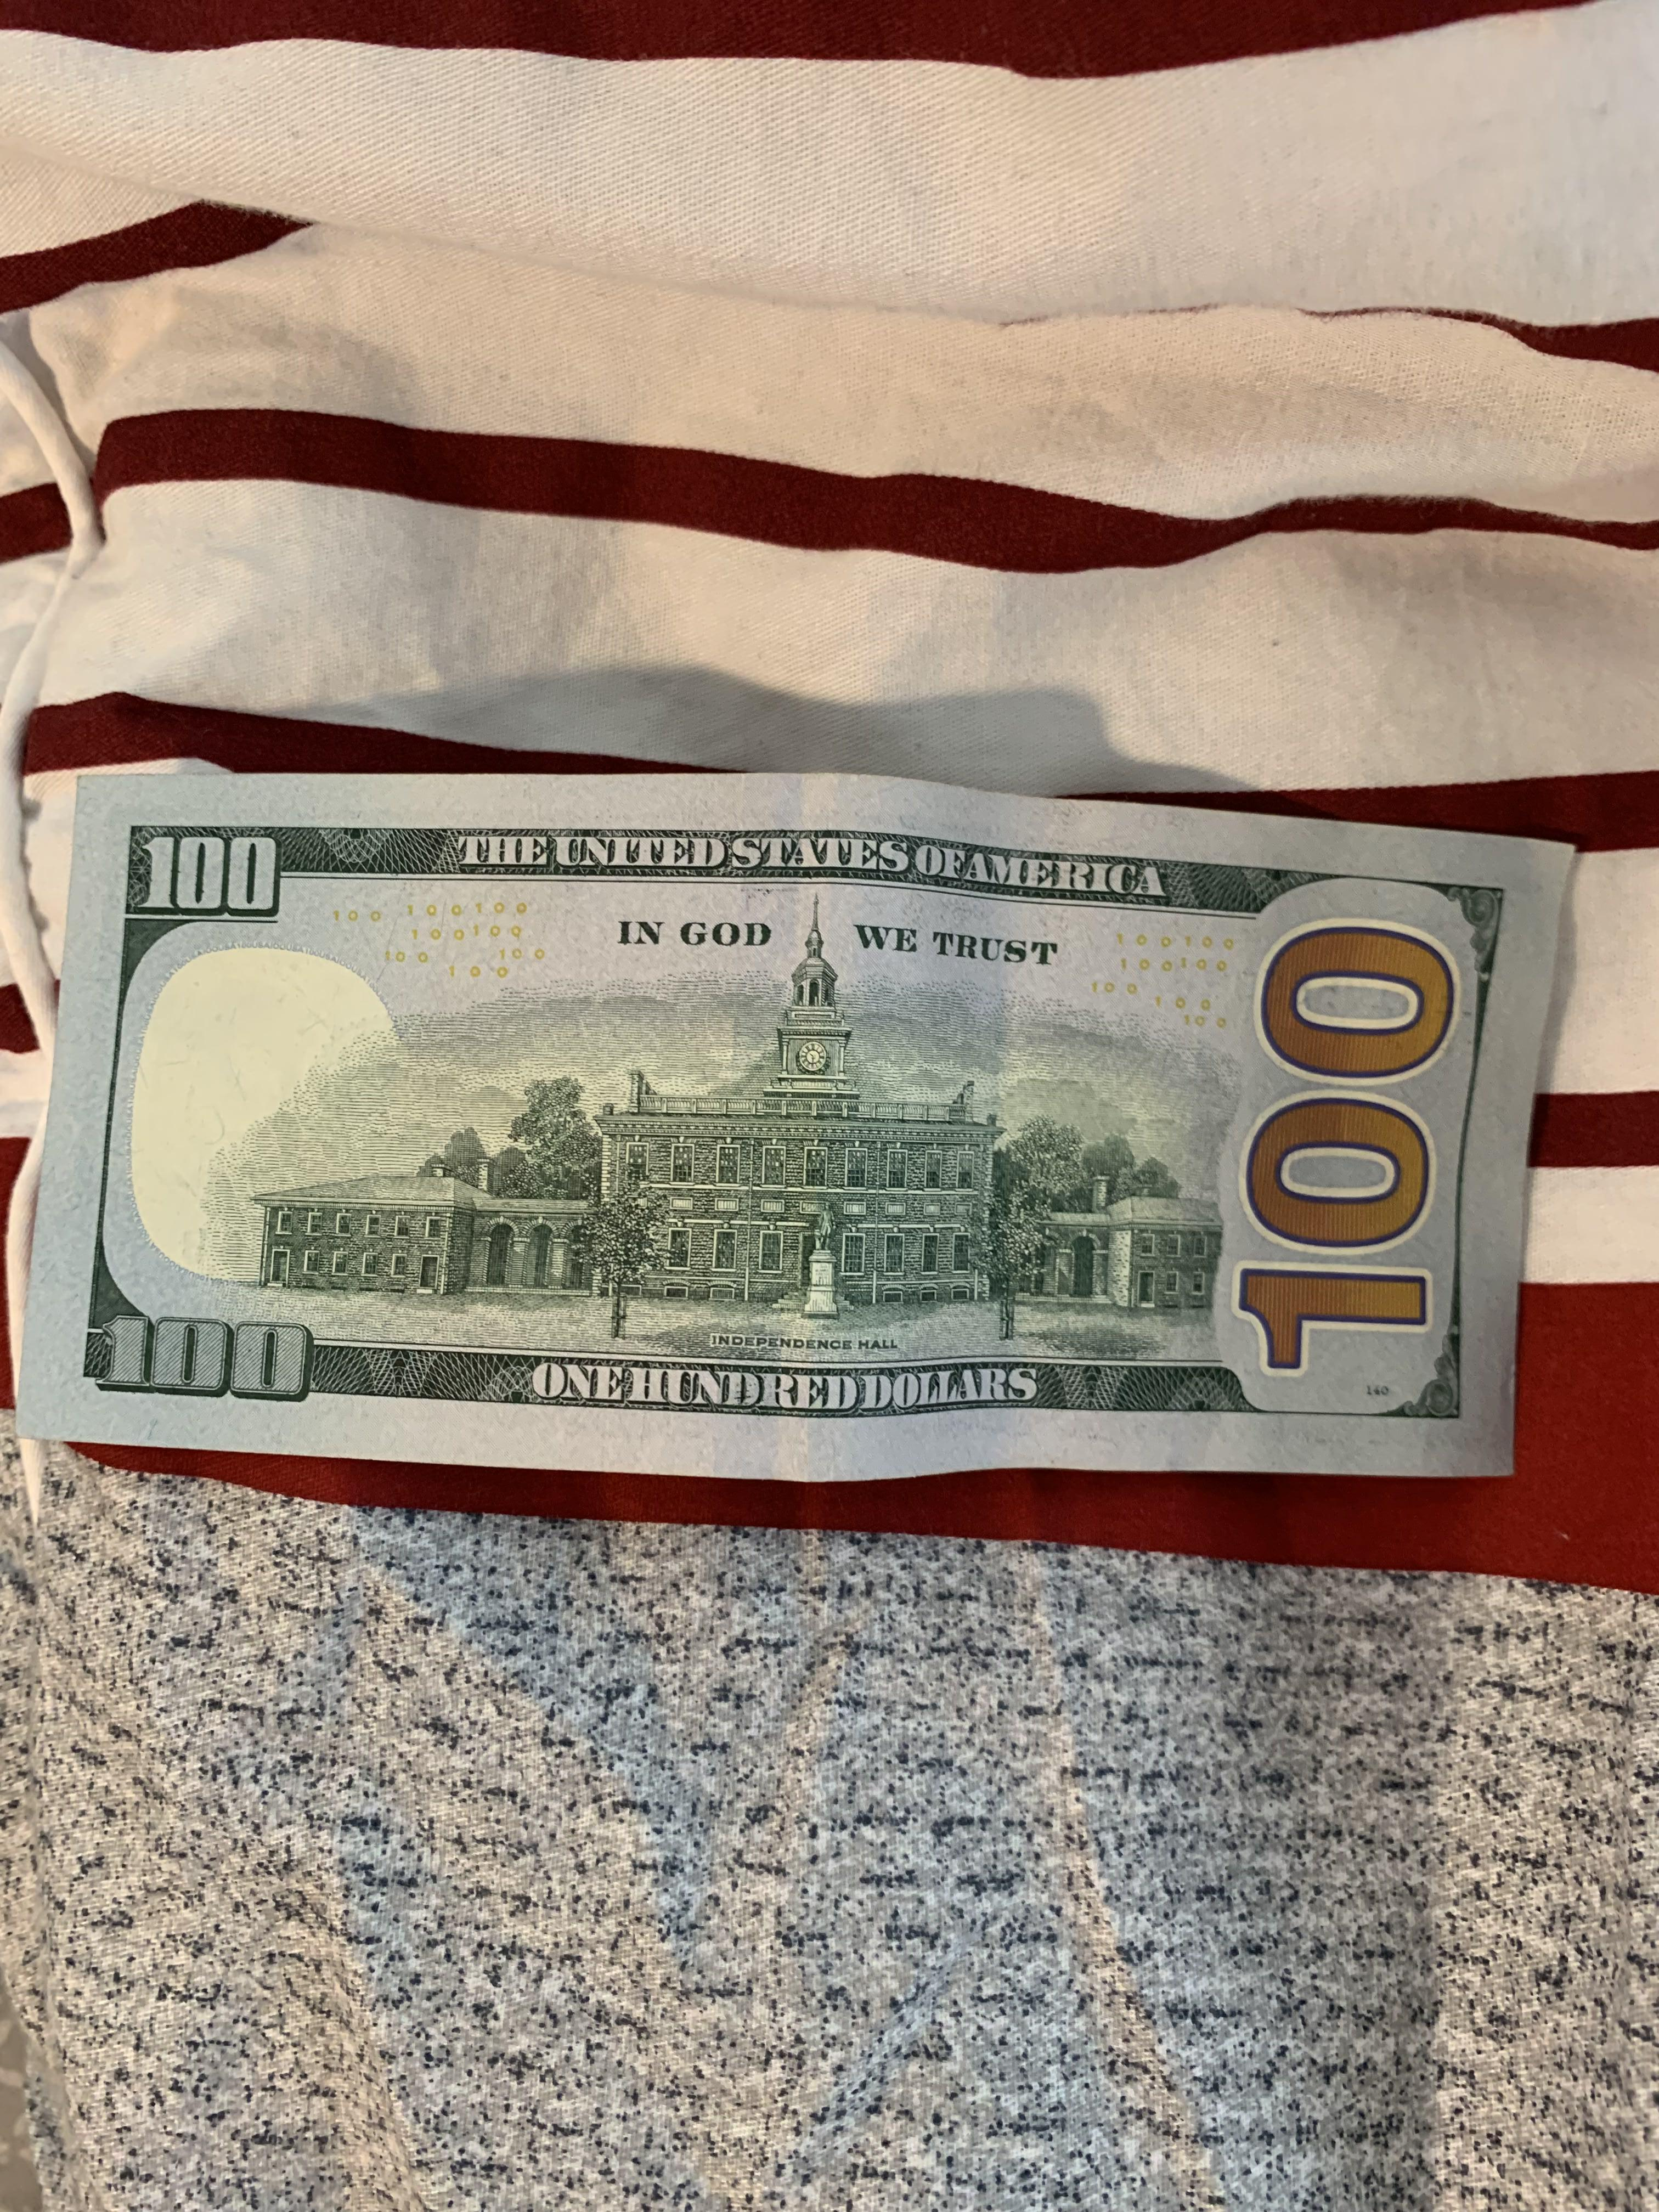HundredBill: (5, 749, 1593, 1510)
